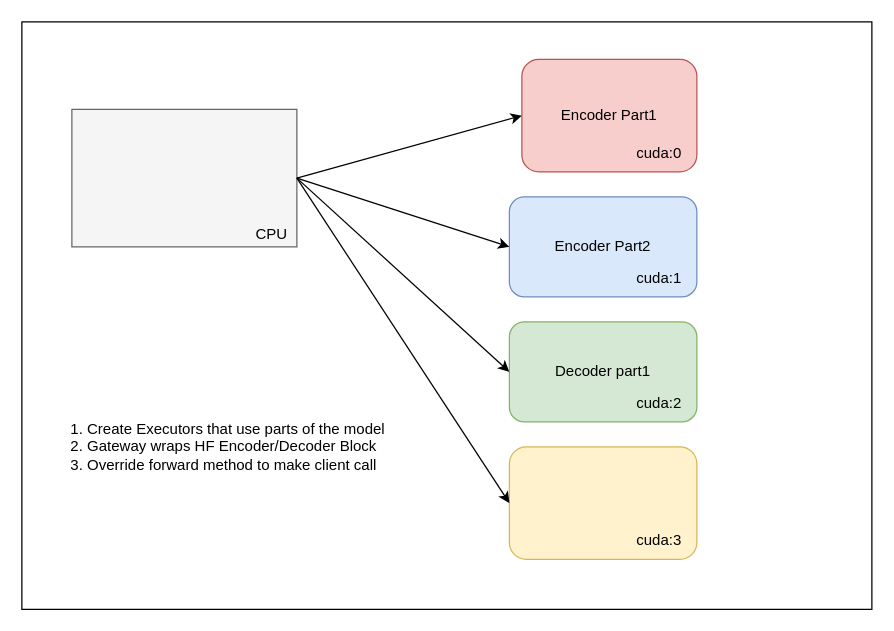
This 894x631 diagram has some shape labels left out. The box of each missing label's shape, as (x1, y1, x2, y2) in pixels:
Decoder part2: (508, 446, 697, 559)
Gateway (Generate): (71, 108, 297, 247)
